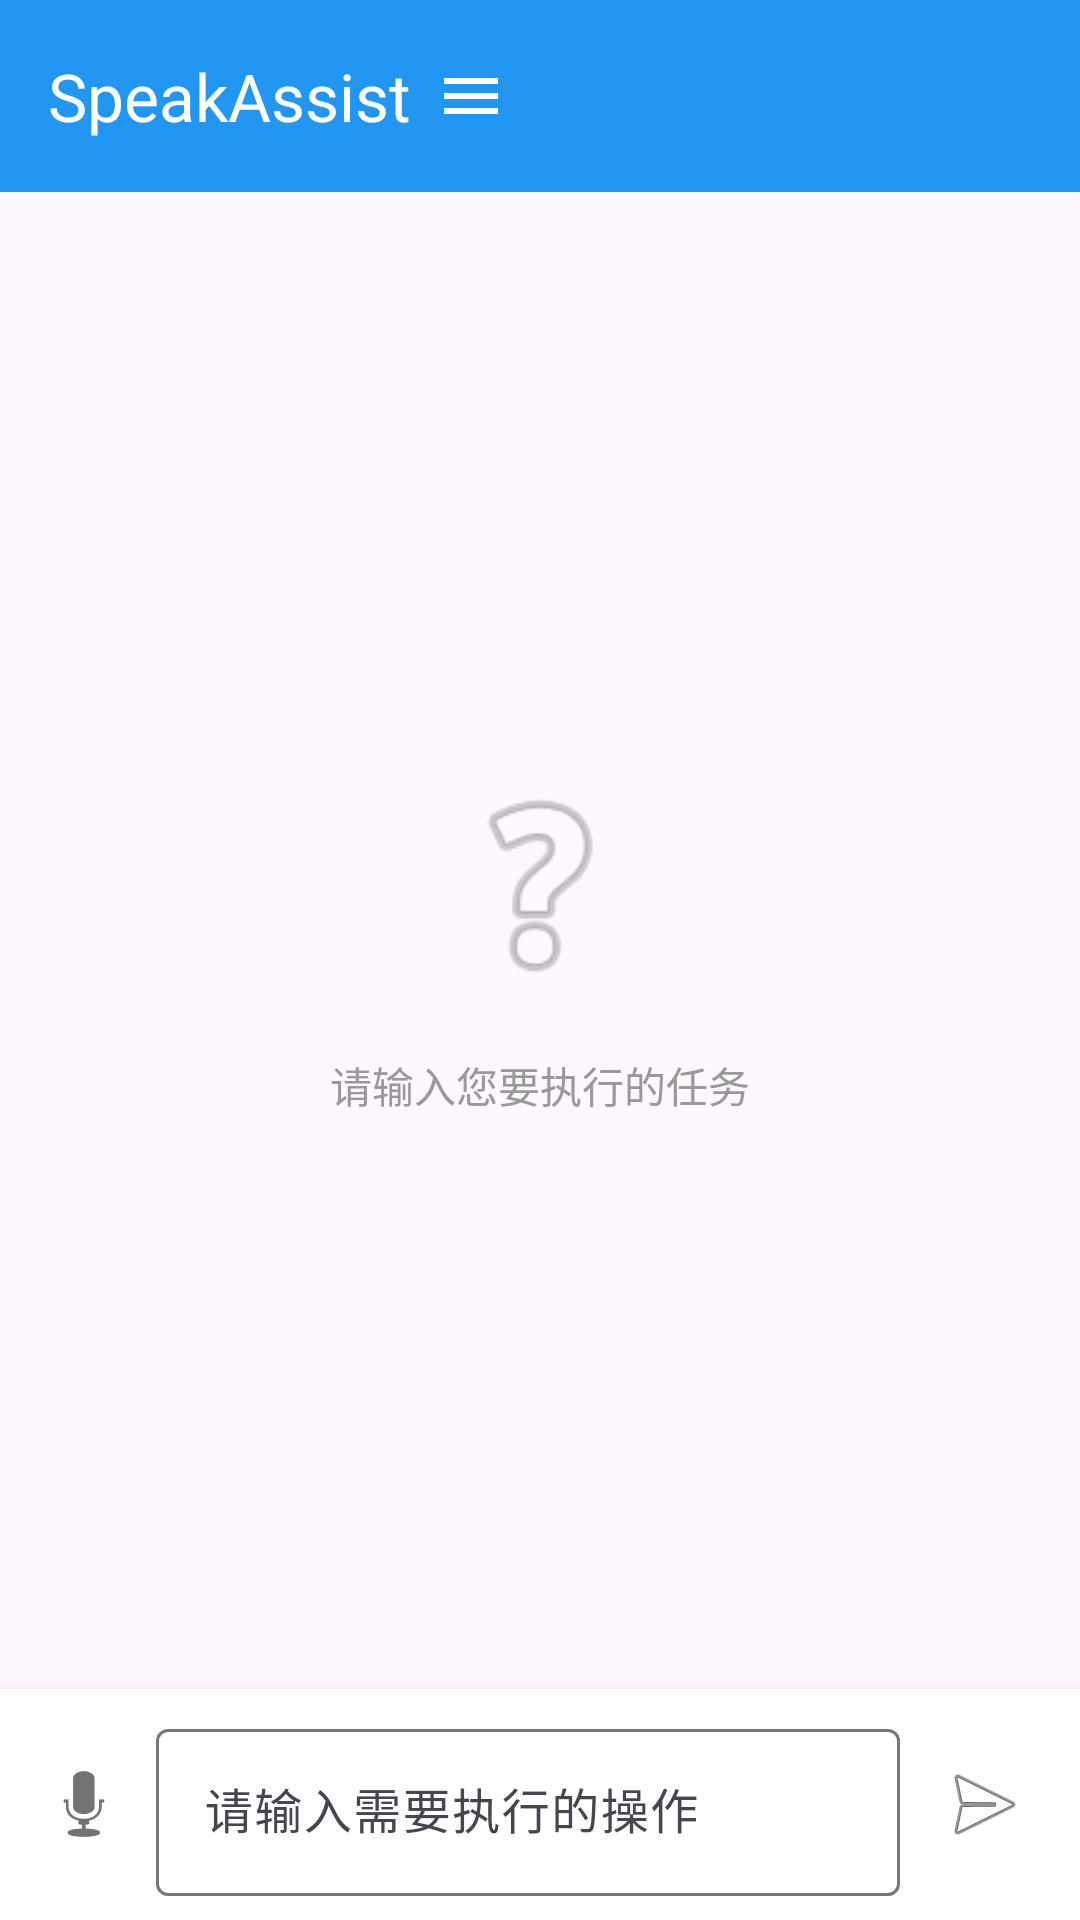

Where icons sit on this 1080*1920 app screen, as (x1, y1, x2, y2):
切换语音/键盘输入: (63, 1771, 105, 1837)
发送消息: (954, 1774, 1016, 1835)
空状态: (488, 801, 592, 971)
菜单: (444, 78, 498, 114)
